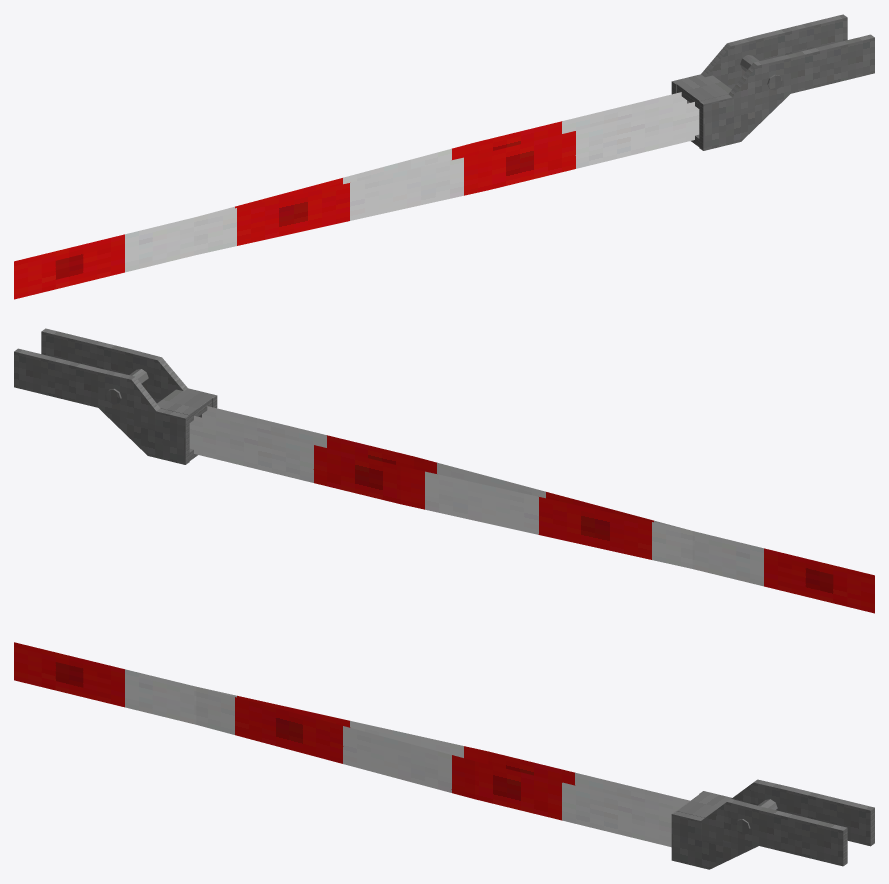
Rendered from Barrier.obj.
3 views of the same model, one above another, from view 1: azimuth 30°, elevation 25°; view 2: azimuth 150°, elevation 25°; view 3: azimuth 330°, elevation 25° (orthographic).
Visible parts, largest first — view 1: Barrier; view 2: Barrier; view 3: Barrier.
Boxes of the visible parts, box(x1,y1,x2,y2) form: Barrier: box(14, 14, 874, 299); Barrier: box(14, 328, 874, 613); Barrier: box(14, 642, 874, 869).
Size of the model in its own units: 4.63 by 0.3755 by 0.315.
1 material, 1 textured.
